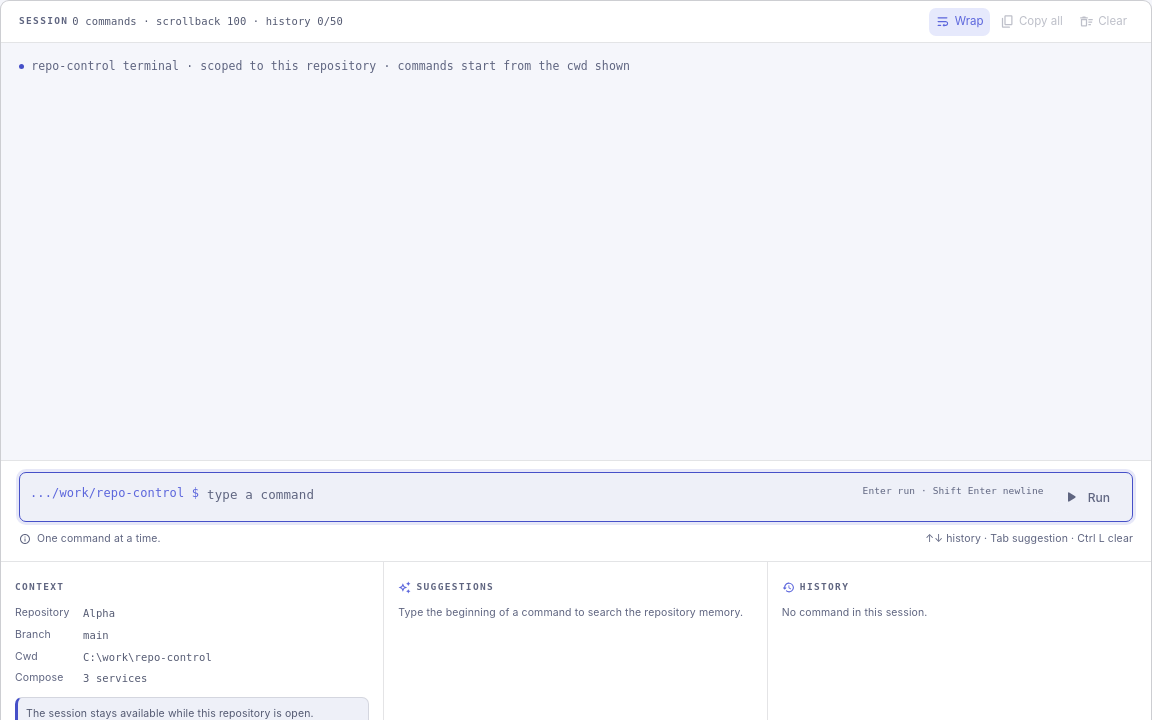
TerminalPanel › runs from the button and renders successful empty output
Type "git status" into the text box with placeholder "type a command" at (531, 495), box [207,485,855,504]
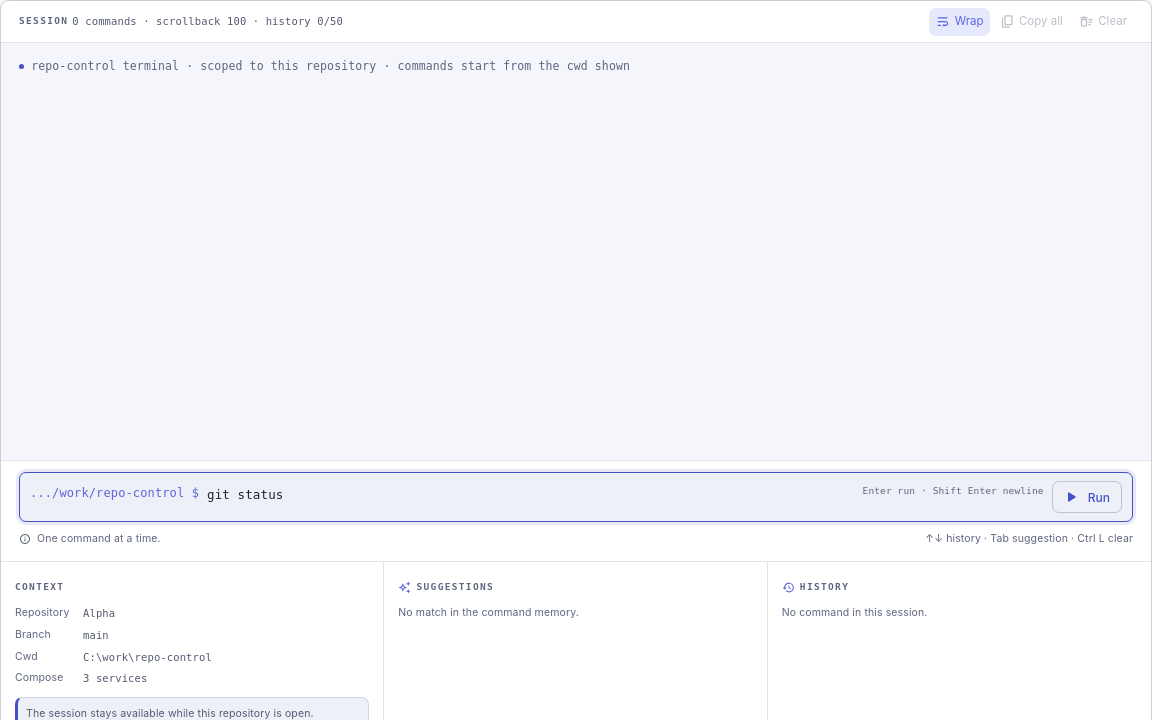
Click the button with aria-label "Run command" at (1087, 497), box [1052,481,1122,513]
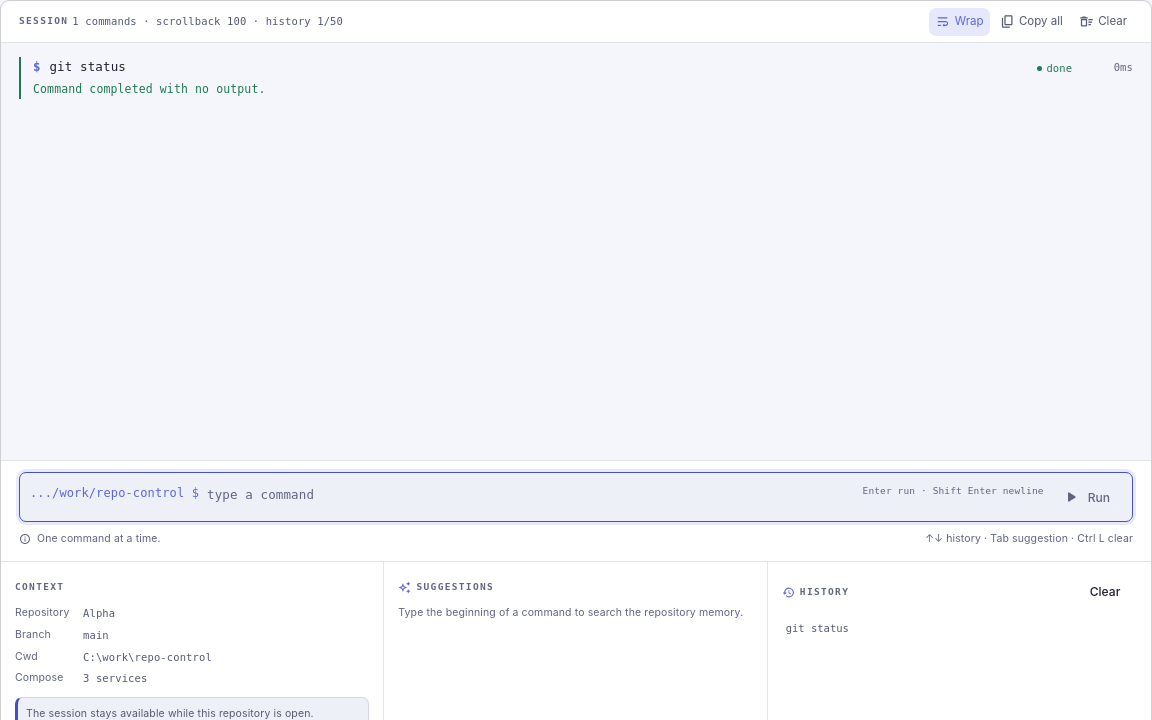
Expected: the text "Command completed with no output." is shown, [33,82,266,96]
Expected: the text "done" is shown, [1046,60,1072,77]
Expected: the text "0ms" is shown, [1114,61,1133,73]
